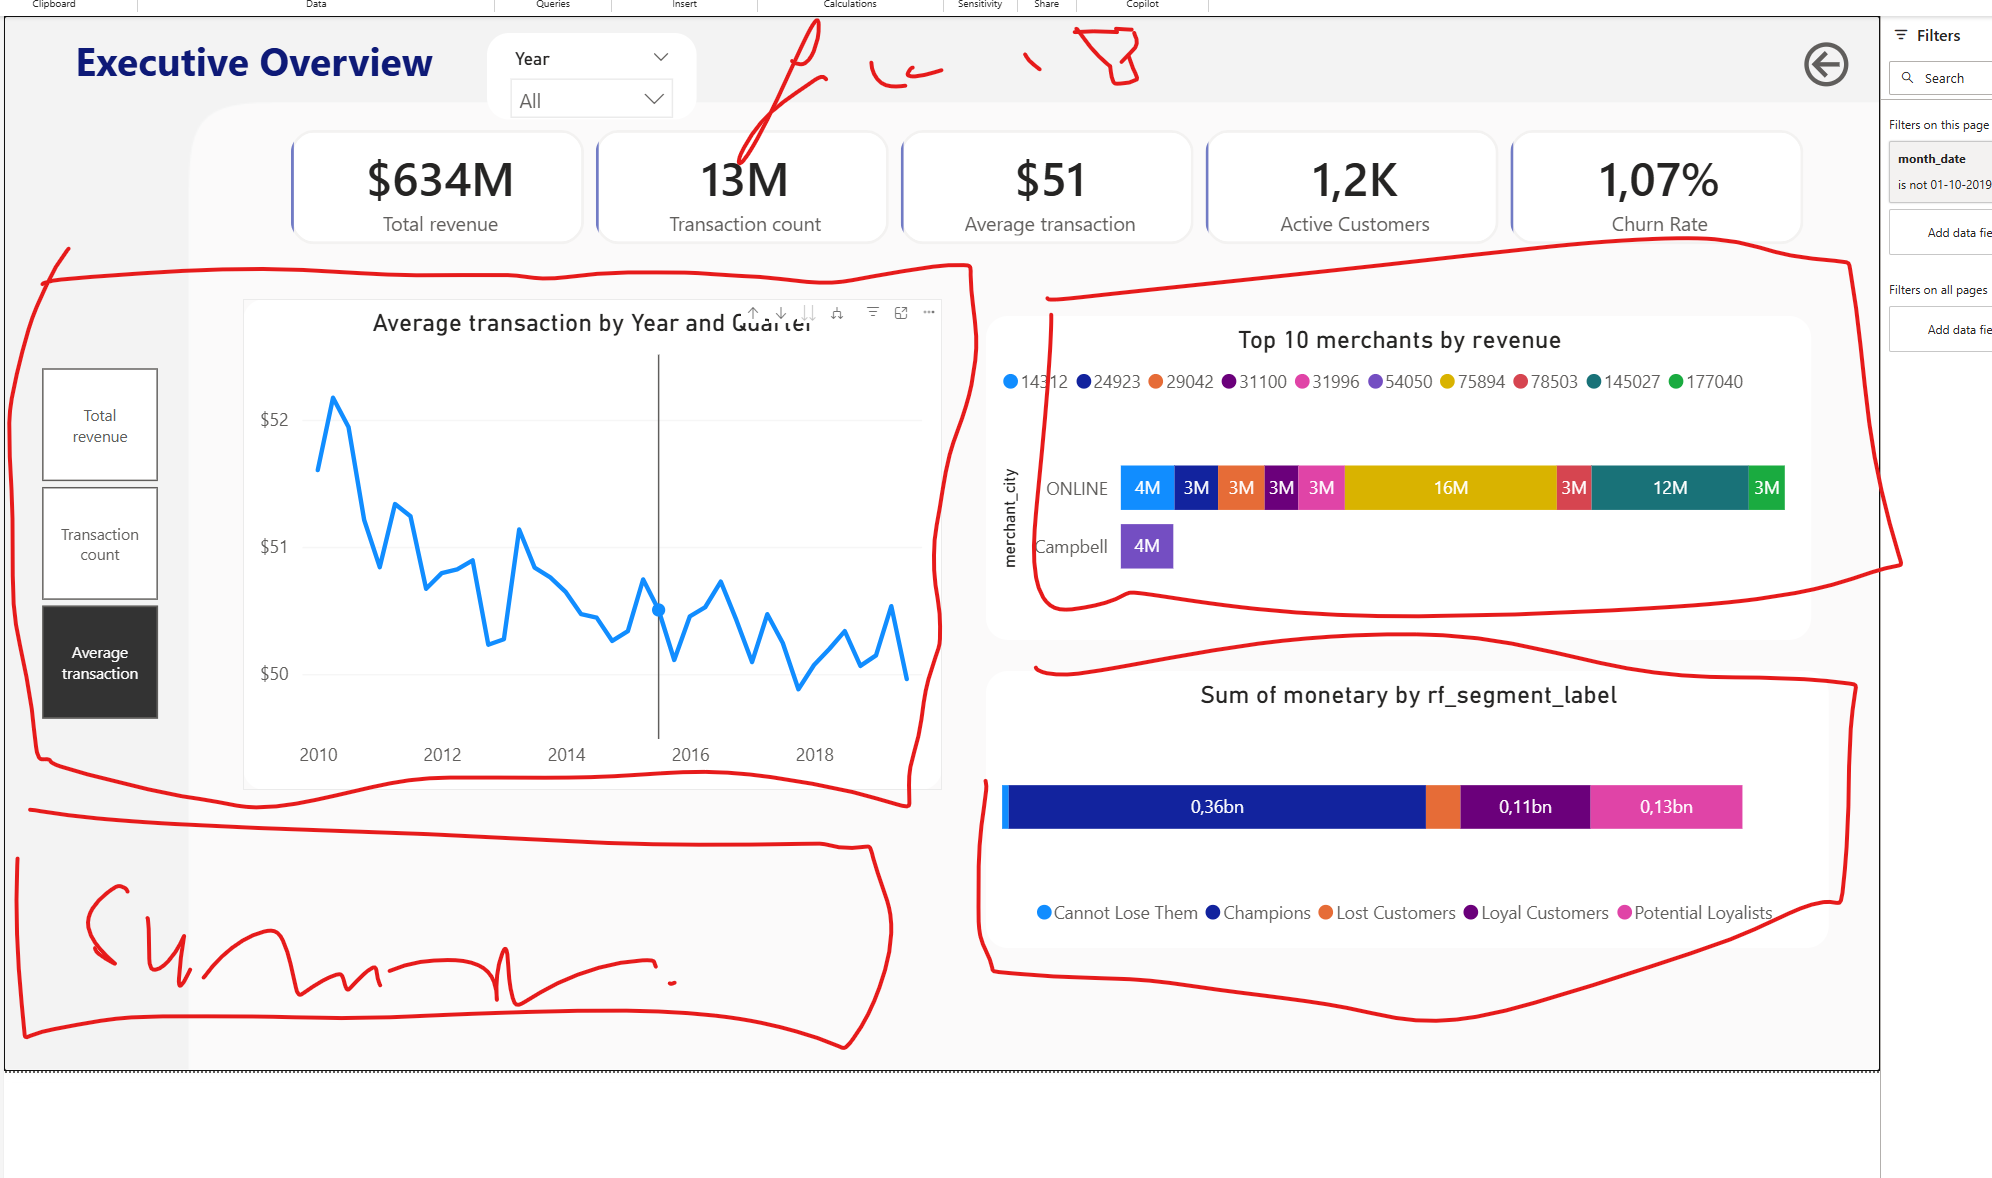

Layout of this report page (visuals, bound fields, positions):
{"tool":"powerbi","page":{"name":"Executive Overview","canvas":[1600,900],"ordinal":1},"visuals":[{"type":"areaChart","fields":{"Category":["revenue_trend.month_date.Variation.Date Hierarchy.Year","revenue_trend.month_date.Variation.Date Hierarchy.Quarter","revenue_trend.month_date.Variation.Date Hierarchy.Month","revenue_trend.month_date.Variation.Date Hierarchy.Day"],"Y":["revenue_trend.Transaction count"]},"box":[200.5,230.8,598.7,520.3],"z":0},{"type":"cardVisual","fields":{"Data":["revenue_trend.Total revenue","revenue_trend.Transaction count","revenue_trend.Average transaction"]},"box":[189.6,94.8,621.4,103.6],"z":1000},{"type":"slicer","fields":{"Values":["executive trend parameter.executive trend parameter"]},"box":[224.7,763.6,549.4,47.4],"z":2000},{"type":"actionButton","box":[1531.8,13.6,43.5,40.1],"z":3000},{"type":"textbox","title":"Executive Overview","box":[239.7,19.6,297.7,40.9],"z":4000},{"type":"cardVisual","fields":{"Data":["customer_activity.Active Customers","customer_activity.Churn Rate"]},"box":[963.7,90.4,334.4,108],"z":5000},{"type":"slicer","fields":{"Values":["merchant parameter.merchant parameter"]},"box":[923.3,431.8,549.4,47.4],"z":6000},{"type":"barChart","fields":{"Category":["merchant_performance.merchant_city"],"Y":["merchant_performance.Total revenue (merchant)"]},"box":[874.2,221.2,629.3,210.6],"z":7000},{"type":"slicer","fields":{"Values":["Customer paramater.Customer paramater"]},"box":[923.3,751.3,549.4,47.4],"z":8000},{"type":"barChart","fields":{"Category":["customer_activity.rf_segment_label"],"Y":["customer_activity.Total Customers"]},"box":[874.2,540.6,629.3,210.6],"z":9000},{"type":"slicer","title":"Is online","fields":{"Values":["merchant_performance.is_online"]},"box":[1510.5,280,86,116.7],"z":13000}]}

Visuals, with their boxes on the page's 1600x900 design canvas (x1, y1, x2, y2). These are canvas units, not pixel positions in the 1992x1178 screenshot, which may show the page scaled, cropped or inside an application window:
areaChart - revenue_trend.month_date.Variation.Date Hierarchy.Year x revenue_trend.month_date.Variation.Date Hierarchy.Quarter: rect(200, 231, 799, 751)
cardVisual - revenue_trend.Total revenue x revenue_trend.Transaction count: rect(190, 95, 811, 198)
slicer - executive trend parameter.executive trend parameter: rect(225, 764, 774, 811)
actionButton: rect(1532, 14, 1575, 54)
"Executive Overview" textbox: rect(240, 20, 537, 60)
cardVisual - customer_activity.Active Customers x customer_activity.Churn Rate: rect(964, 90, 1298, 198)
slicer - merchant parameter.merchant parameter: rect(923, 432, 1473, 479)
barChart - merchant_performance.merchant_city x merchant_performance.Total revenue (merchant): rect(874, 221, 1504, 432)
slicer - Customer paramater.Customer paramater: rect(923, 751, 1473, 799)
barChart - customer_activity.rf_segment_label x customer_activity.Total Customers: rect(874, 541, 1504, 751)
"Is online" slicer: rect(1510, 280, 1596, 397)
